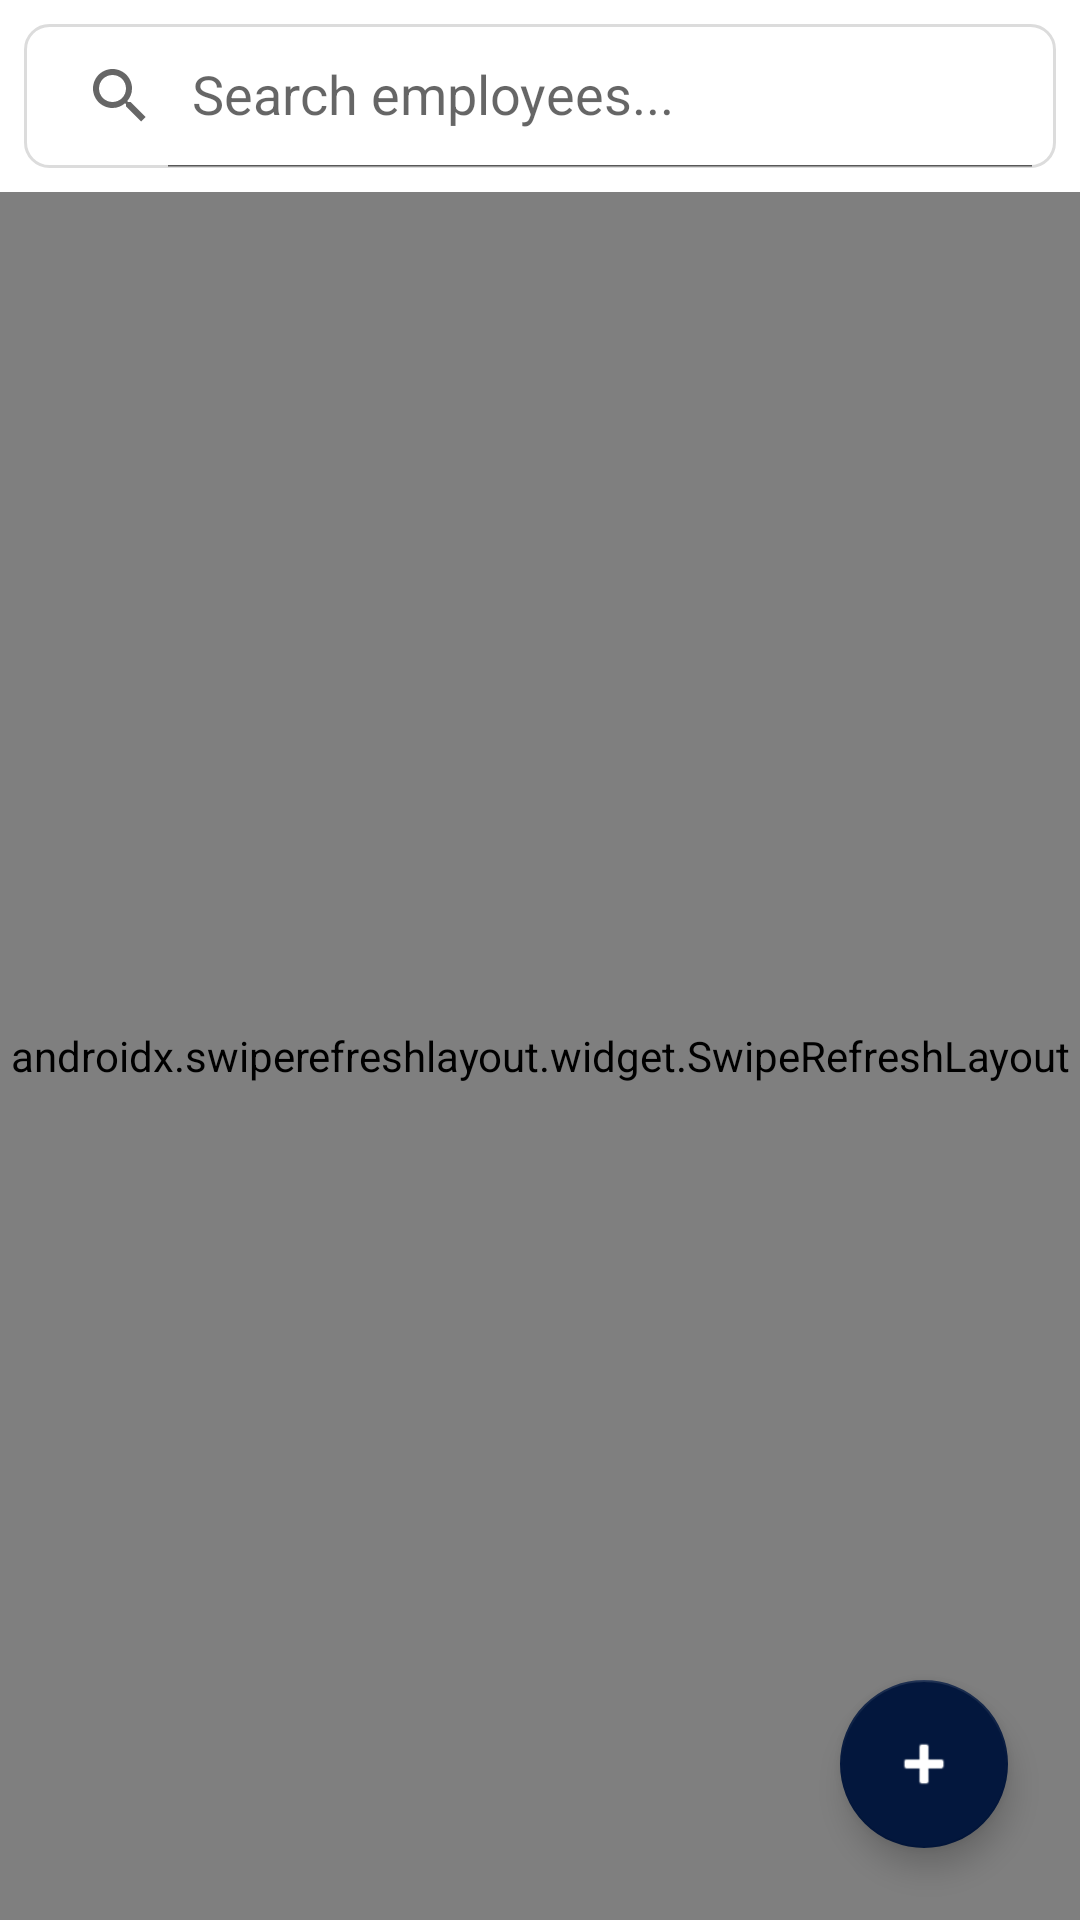

Locate icon controls on the screen. Image size 1080w x 1920h, boxes as bbox(x1, y1, x2, y2).
Add Employee: bbox(840, 1680, 1008, 1848)
